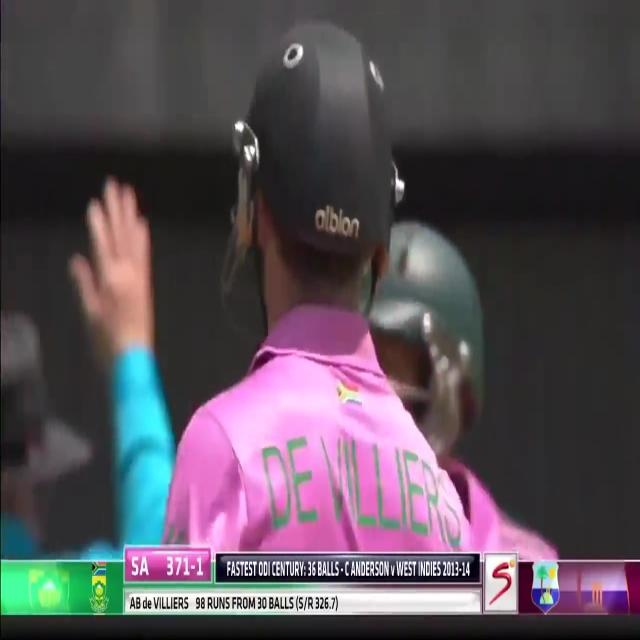Ball: (155, 2, 486, 558)
